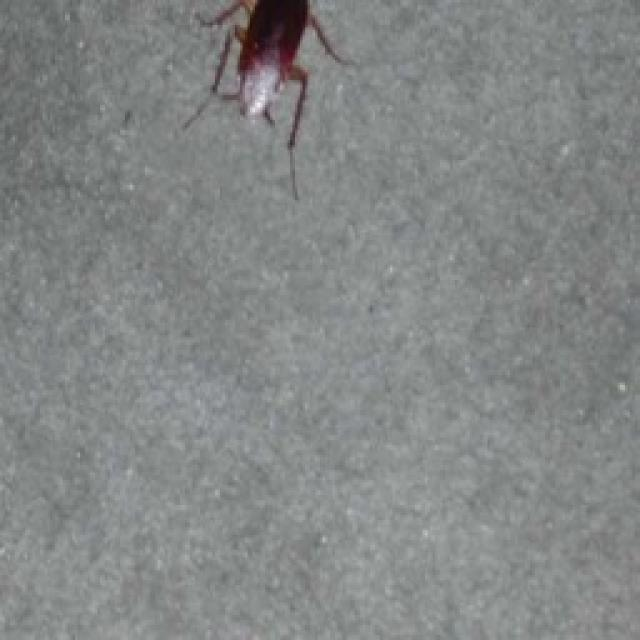cockroach: (178, 0, 356, 204)
